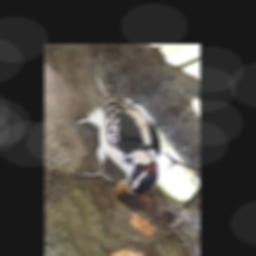Woodpecker: (76, 78, 160, 200)
